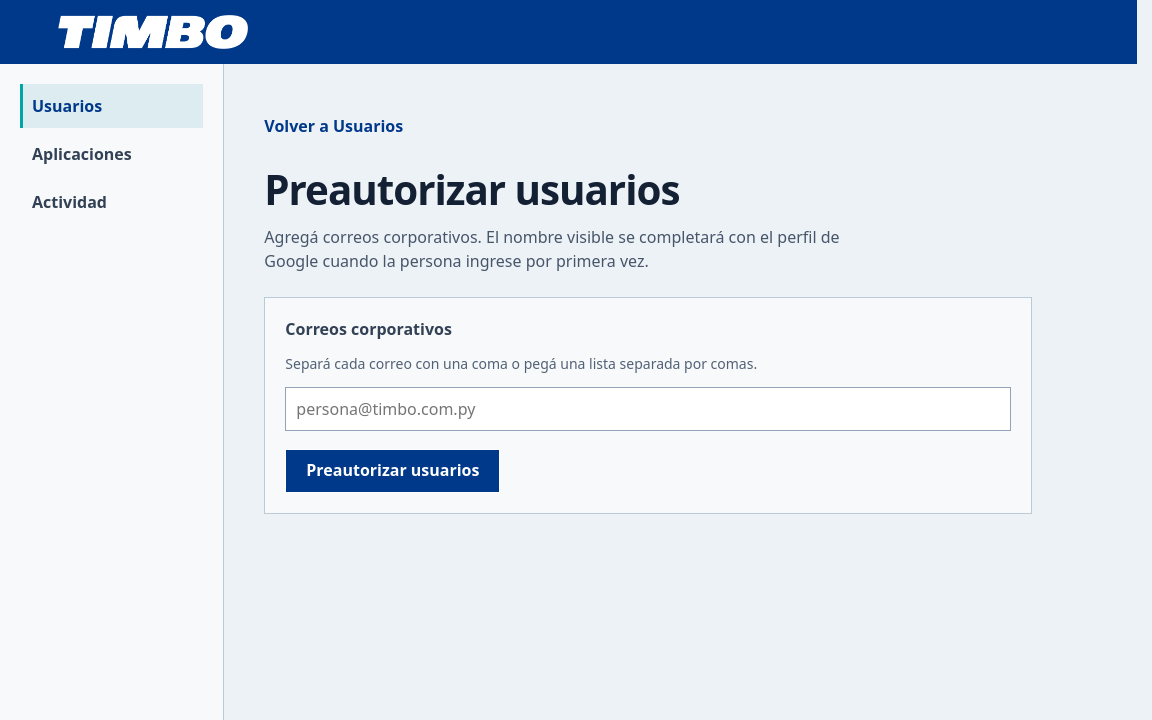
Test: App › preautoriza una lista de correos y mantiene visible el error de dominio
In the field labelled "Correos corporativos": point(648, 409) x1=285 y1=387 x2=1011 y2=431, type "persona@gmail.com,"
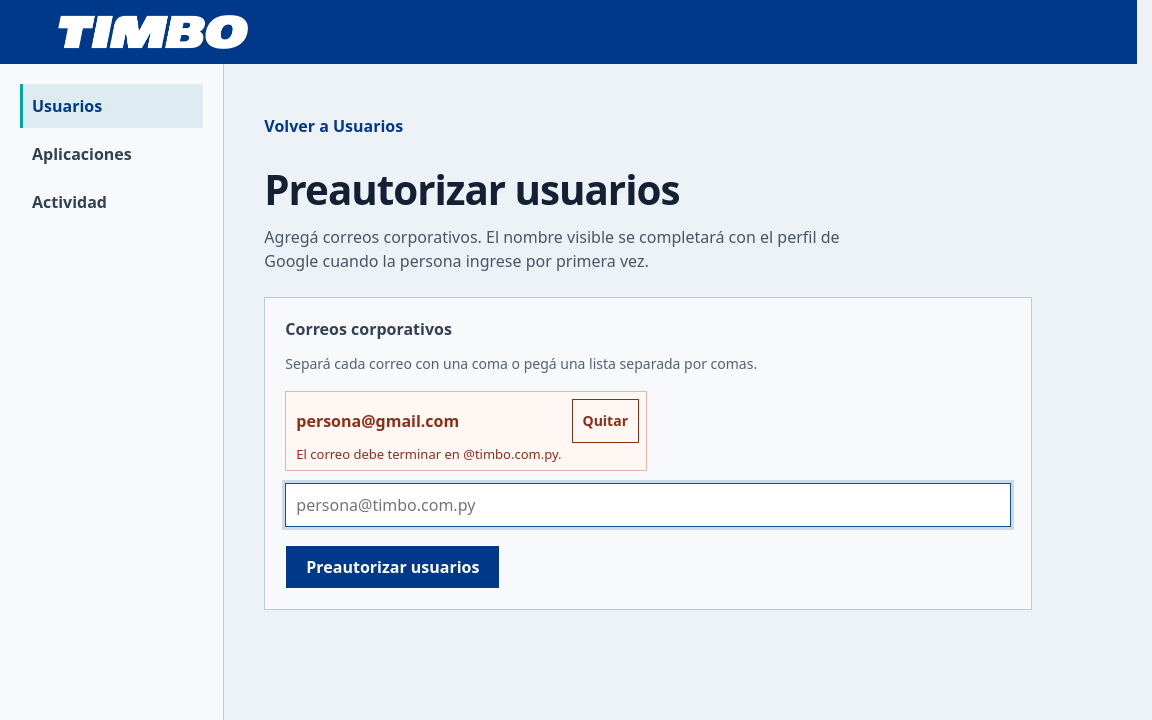
Expected: the text "El correo debe terminar en @timbo.com.py." is shown, x1=296 y1=446 x2=562 y2=463
Click the button with aria-label "Quitar persona@gmail.com": point(605, 421) x1=572 y1=399 x2=639 y2=443
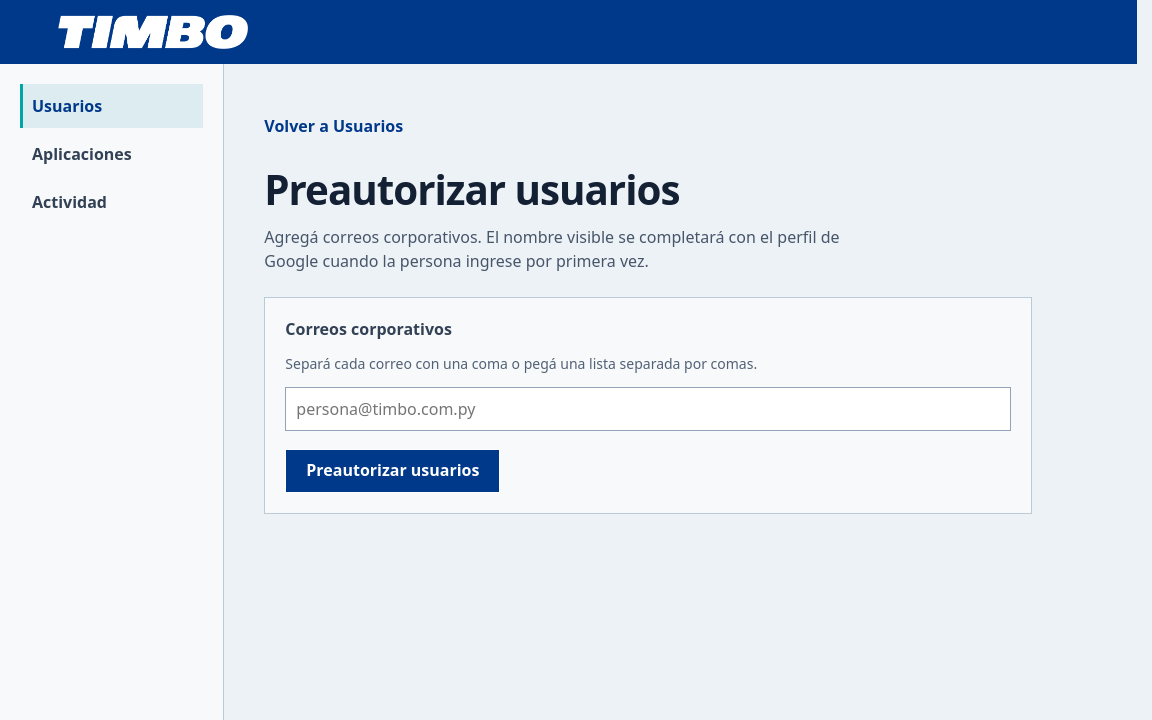
In the field labelled "Correos corporativos": point(648, 409) x1=285 y1=387 x2=1011 y2=431, type "persona@timbo.com.py,"
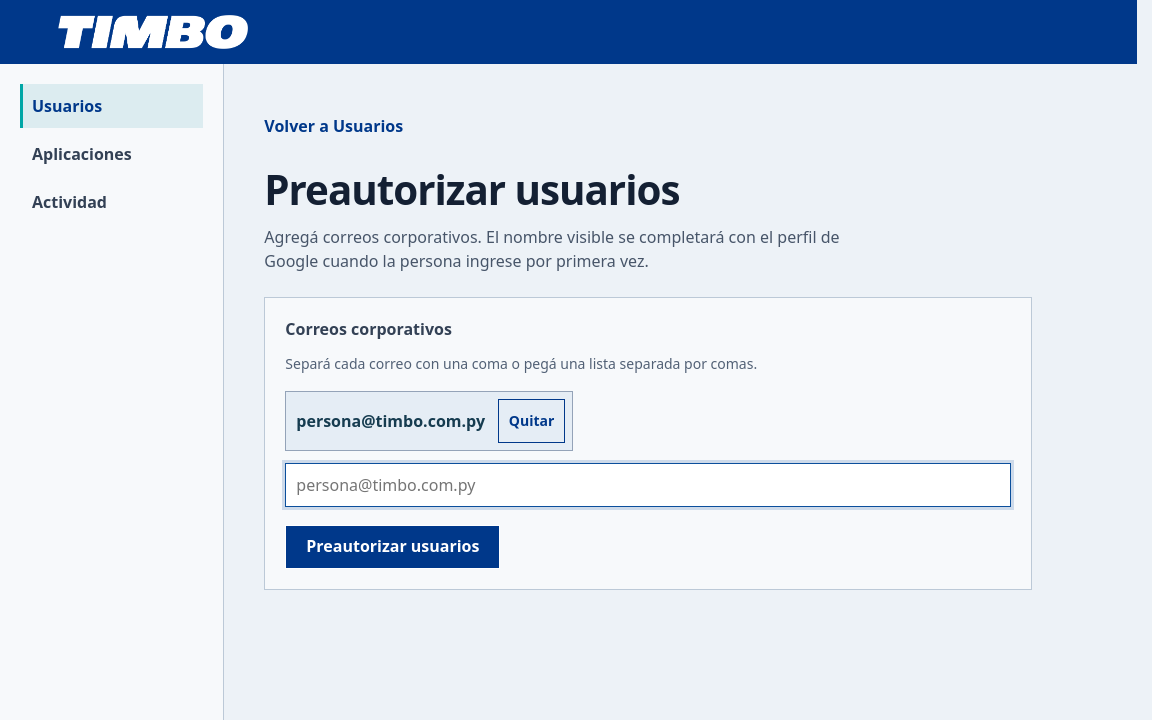
Click the button "Preautorizar usuarios": point(393, 547) x1=285 y1=525 x2=500 y2=569
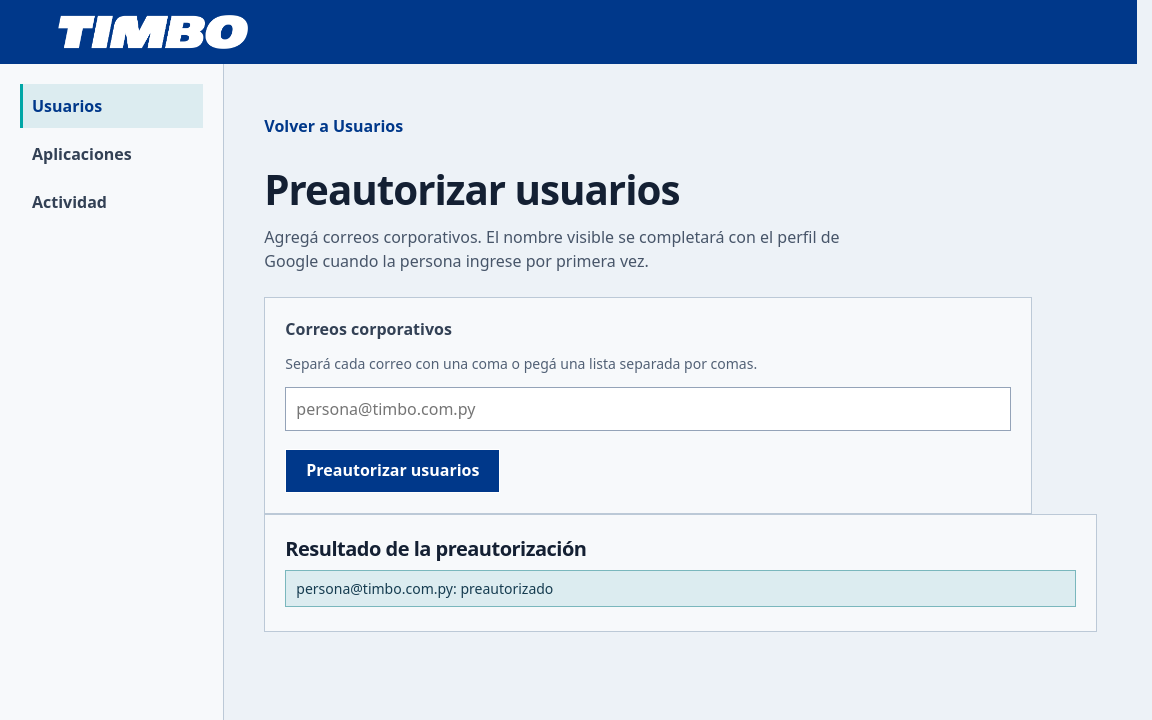
Expected: the heading "Resultado de la preautorización" is shown, x1=285 y1=535 x2=586 y2=562
